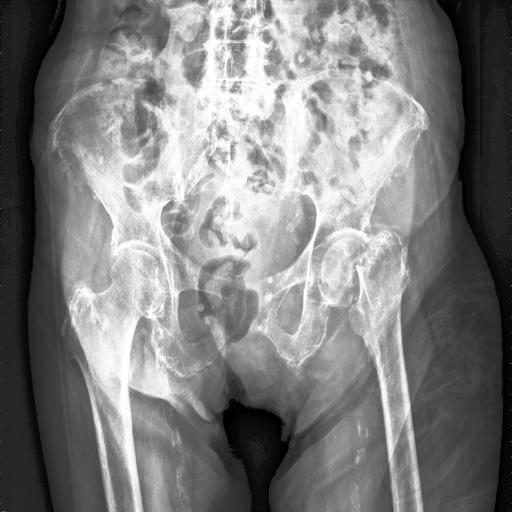neck: (348, 229, 414, 397), (321, 238, 370, 307)
normal: (60, 250, 165, 447)
